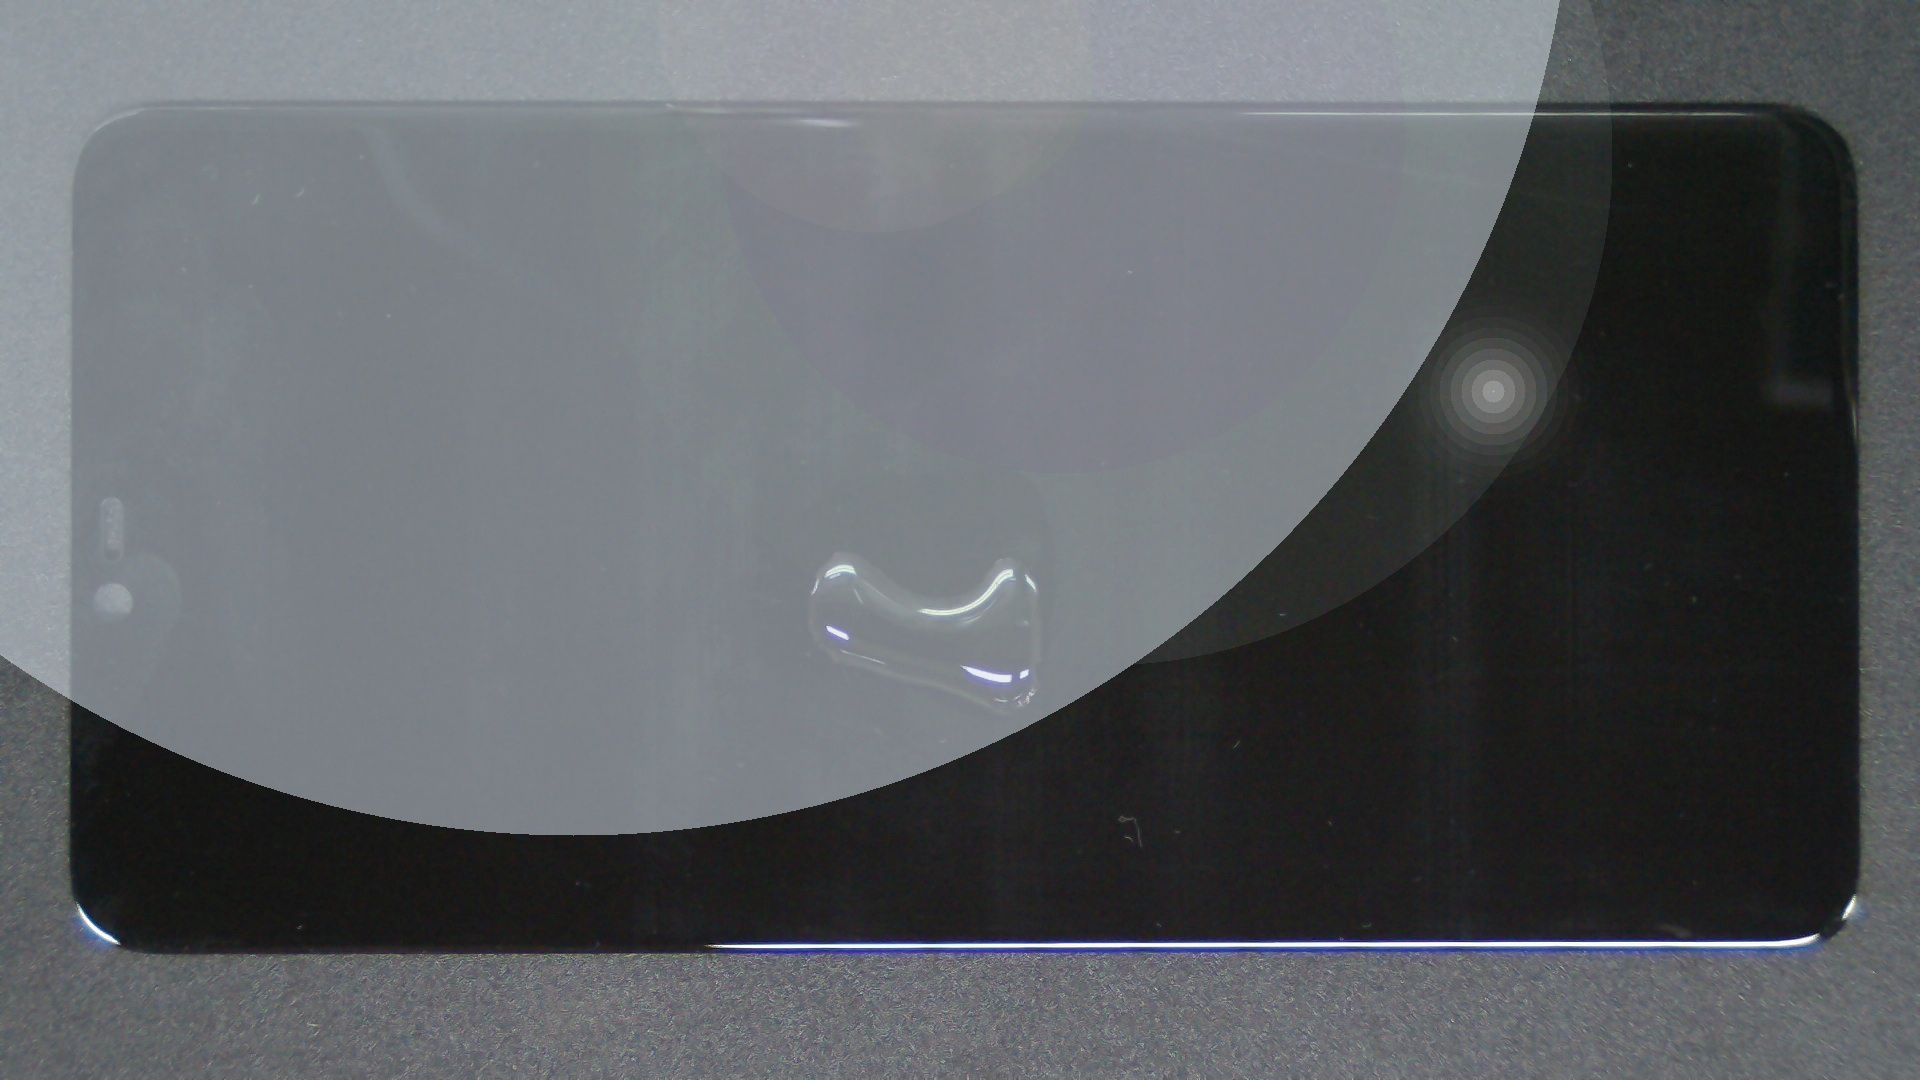oil: (419, 276, 1257, 828)
